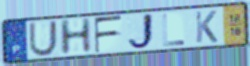F: (93, 14, 124, 55)
H: (58, 17, 94, 57)
J: (126, 12, 157, 52)
K: (194, 9, 219, 44)
L: (161, 13, 187, 48)
U: (28, 20, 59, 58)
